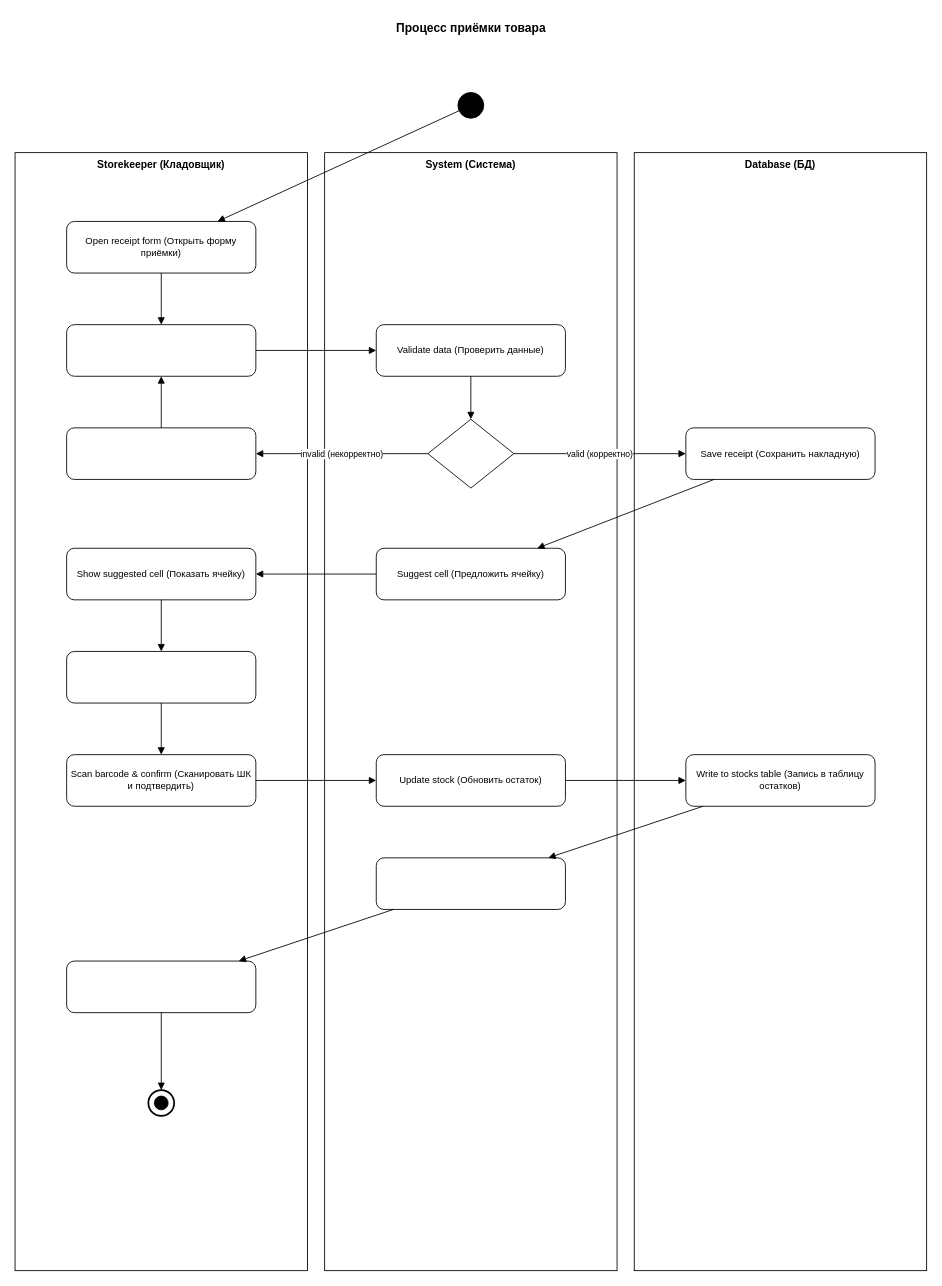
Some shapes in this 942 by 1286 pixel diagram are drawn without their labels. The shapes that lost their labels are listed below. From the top down, each one's centre as x and y in pixels, then its label:
At point (161, 350): "Enter goods data (Ввести данные товара)".
At point (161, 453): "Show error (Показать ошибку)".
At point (161, 677): "Place item into cell (Разместить товар в ячейку)".
At point (470, 883): "Log operation (Записать операцию)".
At point (161, 986): "Confirm success (Подтвердить успех)".
